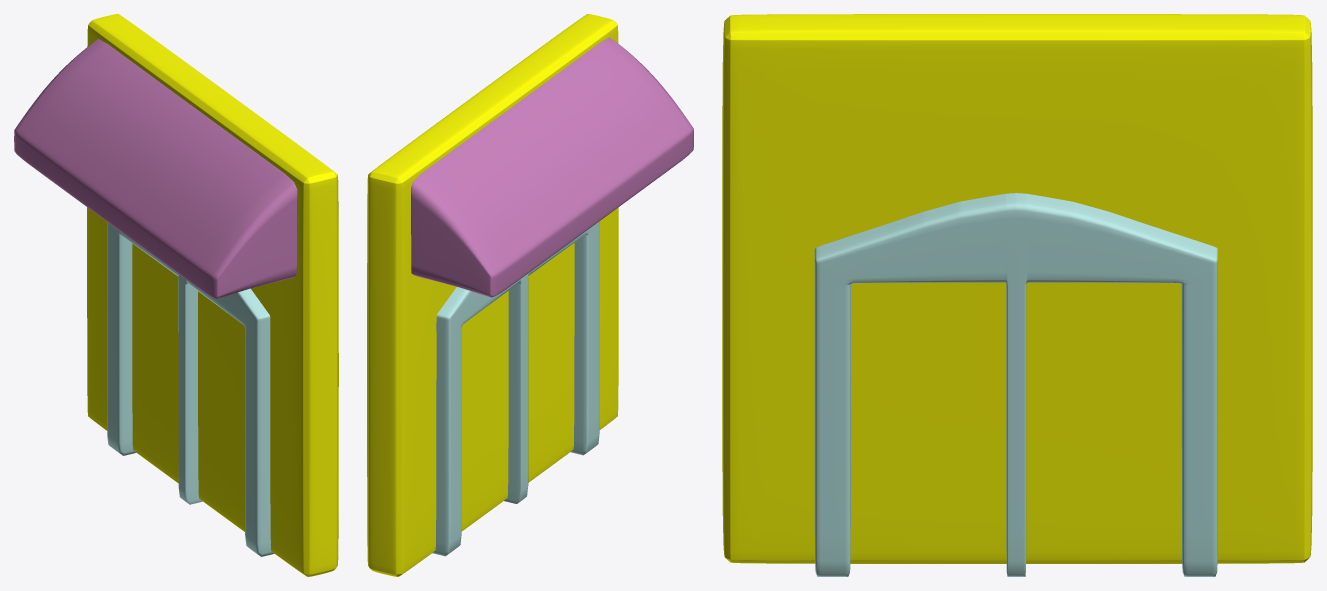
3 renders of one model, left to right at view 1: azimuth 30°, elevation 25°; view 2: azimuth 150°, elevation 25°; view 3: azimuth 270°, elevation 25°, orthographic. The views are drawn at different scales.
Parts seen in each view (by area): view 1: pCube668; view 2: pCube668; view 3: pCube668.
Boxes of the visible parts, bbox=[...] form: pCube668: bbox=[14, 14, 338, 576]; pCube668: bbox=[367, 14, 693, 576]; pCube668: bbox=[722, 14, 1312, 576].
Bounding box in the file's own units: 0.3619 × 0.9995 × 0.9995.
